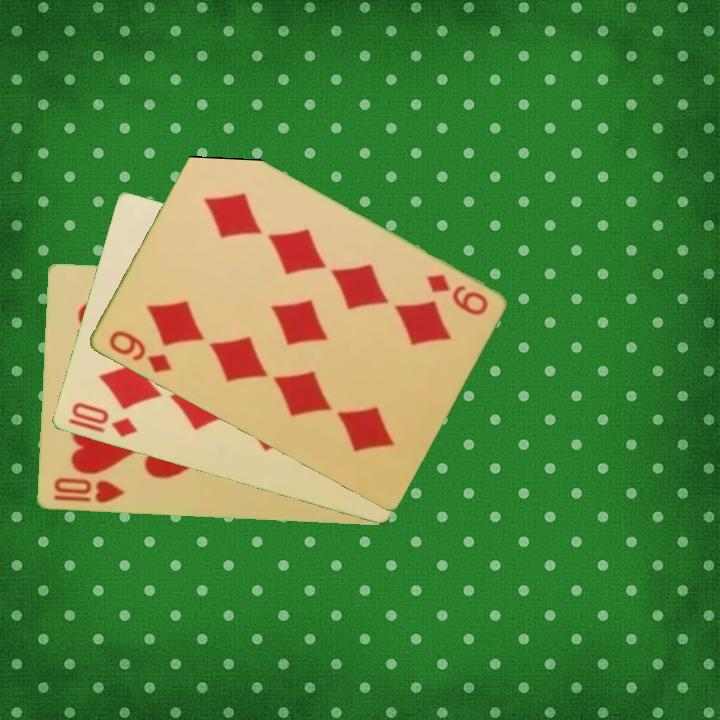10d: (67, 399, 140, 441)
10h: (50, 474, 126, 506)
9d: (104, 326, 175, 376), (422, 270, 491, 319)
